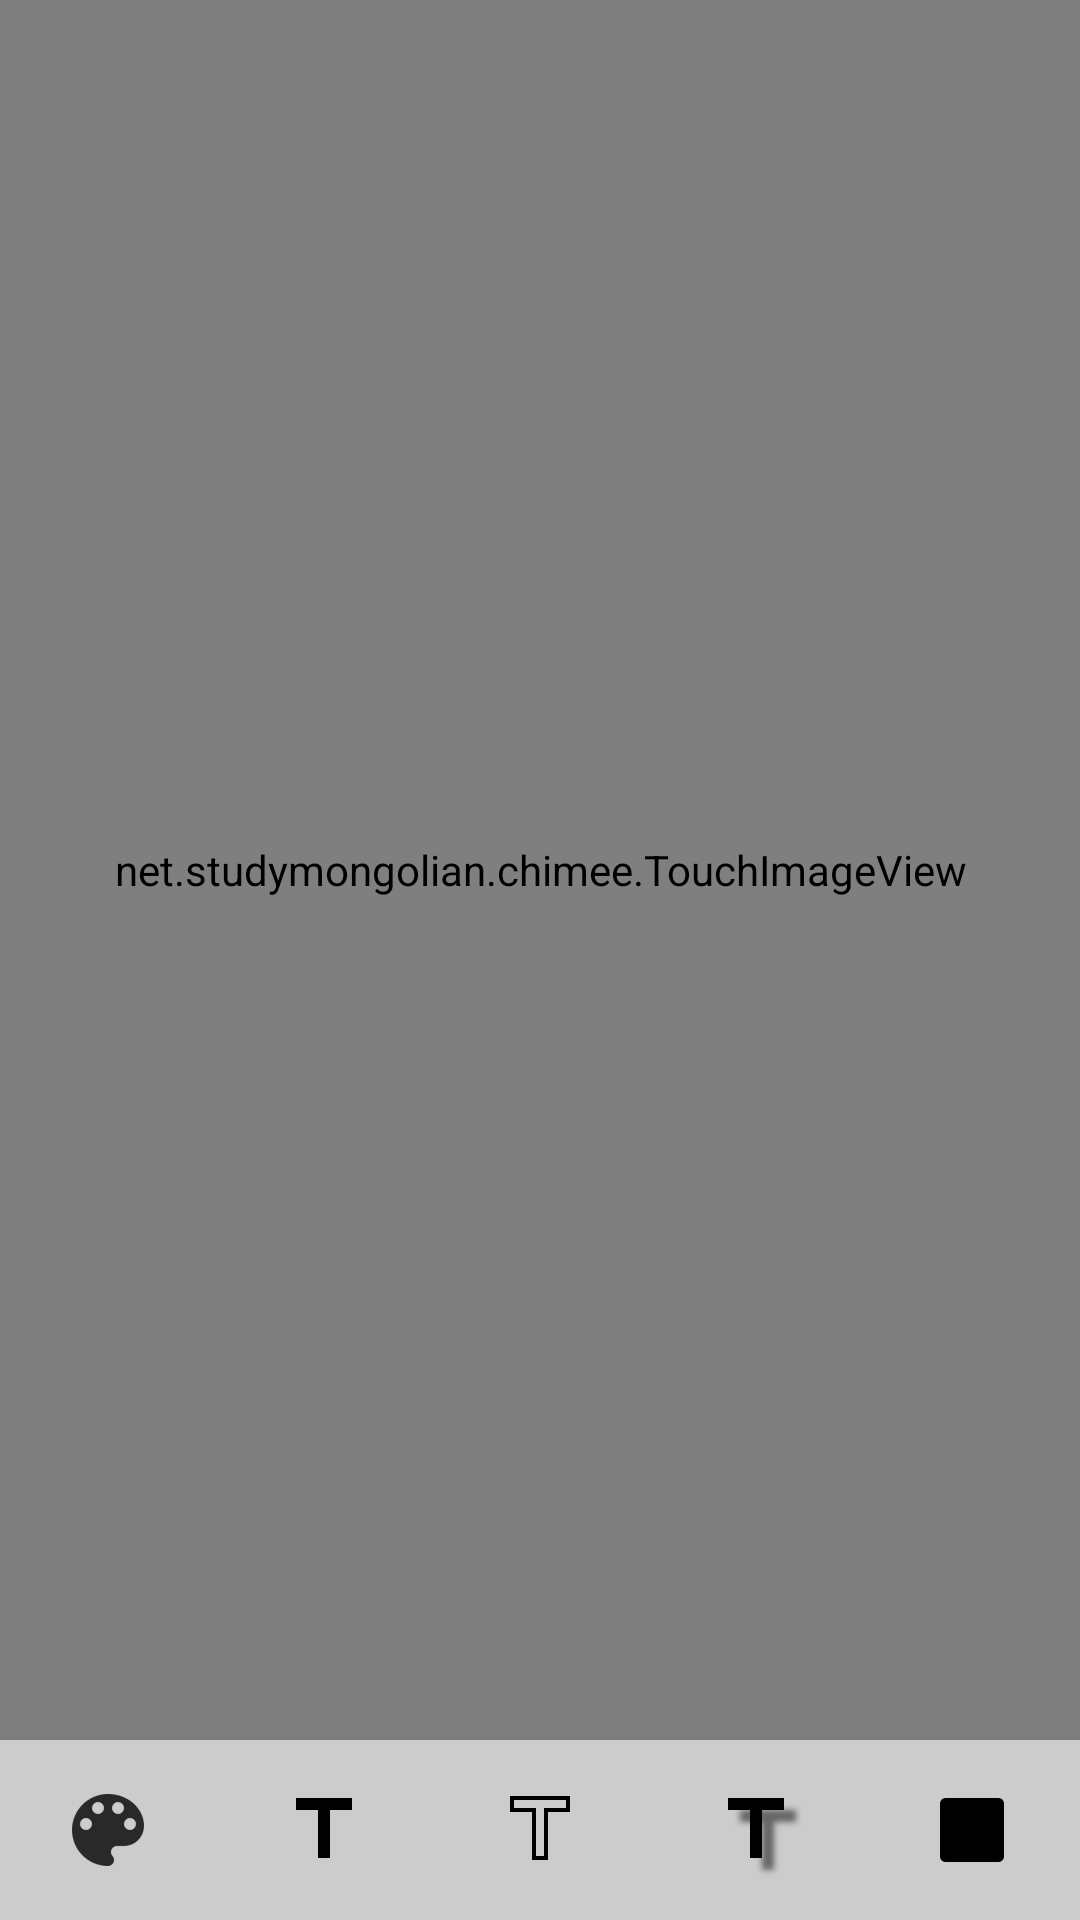

Locate icon controls on the screen. Image size 1080×1920, boxes as (x1, y1, x2, y2).
border: (510, 1796, 570, 1860)
font: (296, 1798, 352, 1858)
